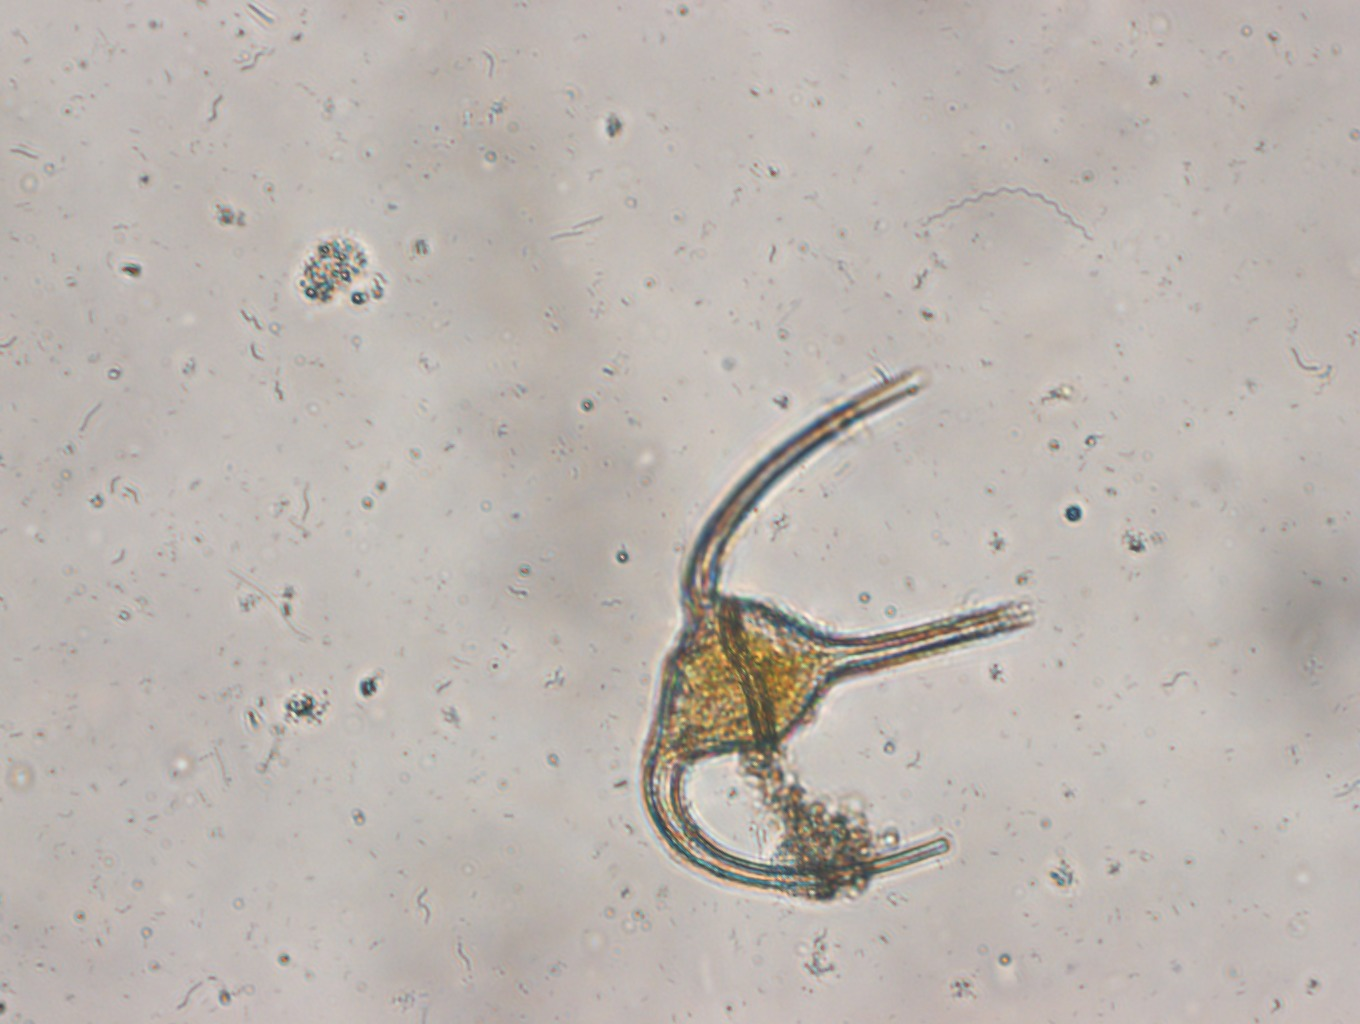ceratium trichoceros: (634, 360, 1042, 897)
